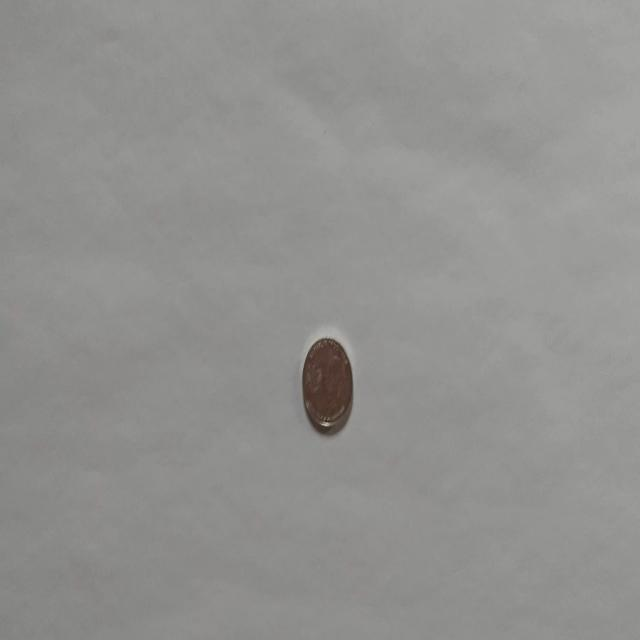lima ratus rupiah: (301, 334, 354, 432)
